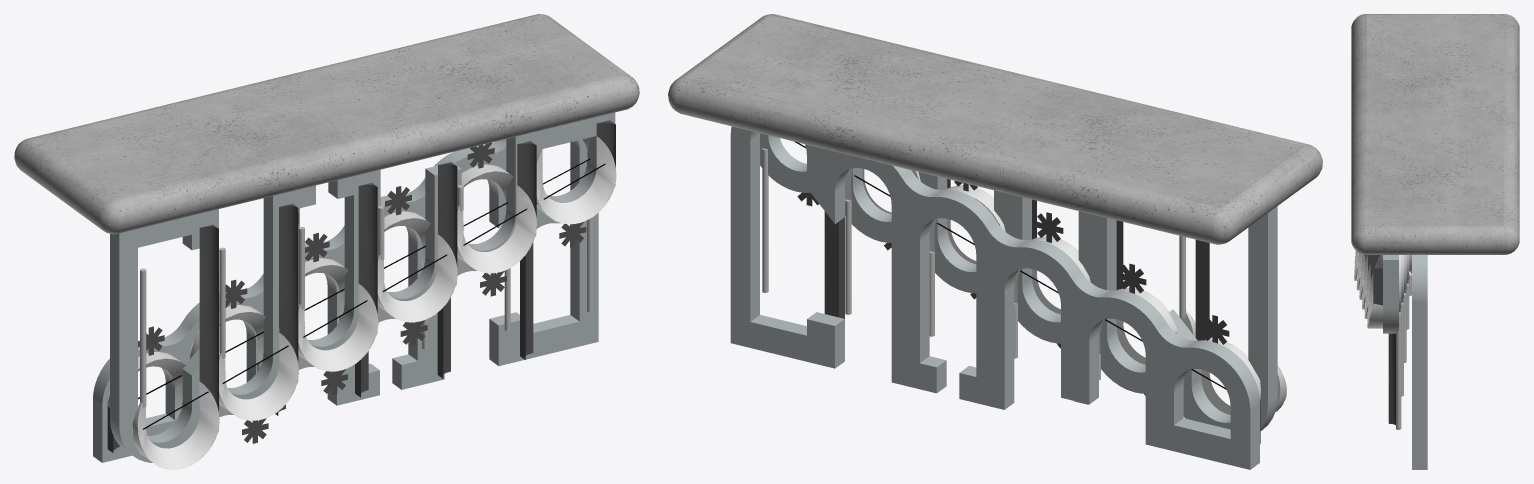
File: 2070s-dj-table-HANDBAKE-v71.glb
3 renders of one model, left to right at view 1: azimuth 30°, elevation 25°; view 2: azimuth 150°, elevation 25°; view 3: azimuth 270°, elevation 25°, orthographic. The views are drawn at different scales.
Visible parts, largest first — view 1: Box; view 2: Box; view 3: Box.
Boxes of the visible parts, bbox=[...] form: Box: bbox=[14, 14, 639, 469]; Box: bbox=[668, 14, 1322, 469]; Box: bbox=[1351, 14, 1519, 469].
Size of the model in its own units: 1.9 by 0.9668 by 0.6072.
1 material, 1 textured.
